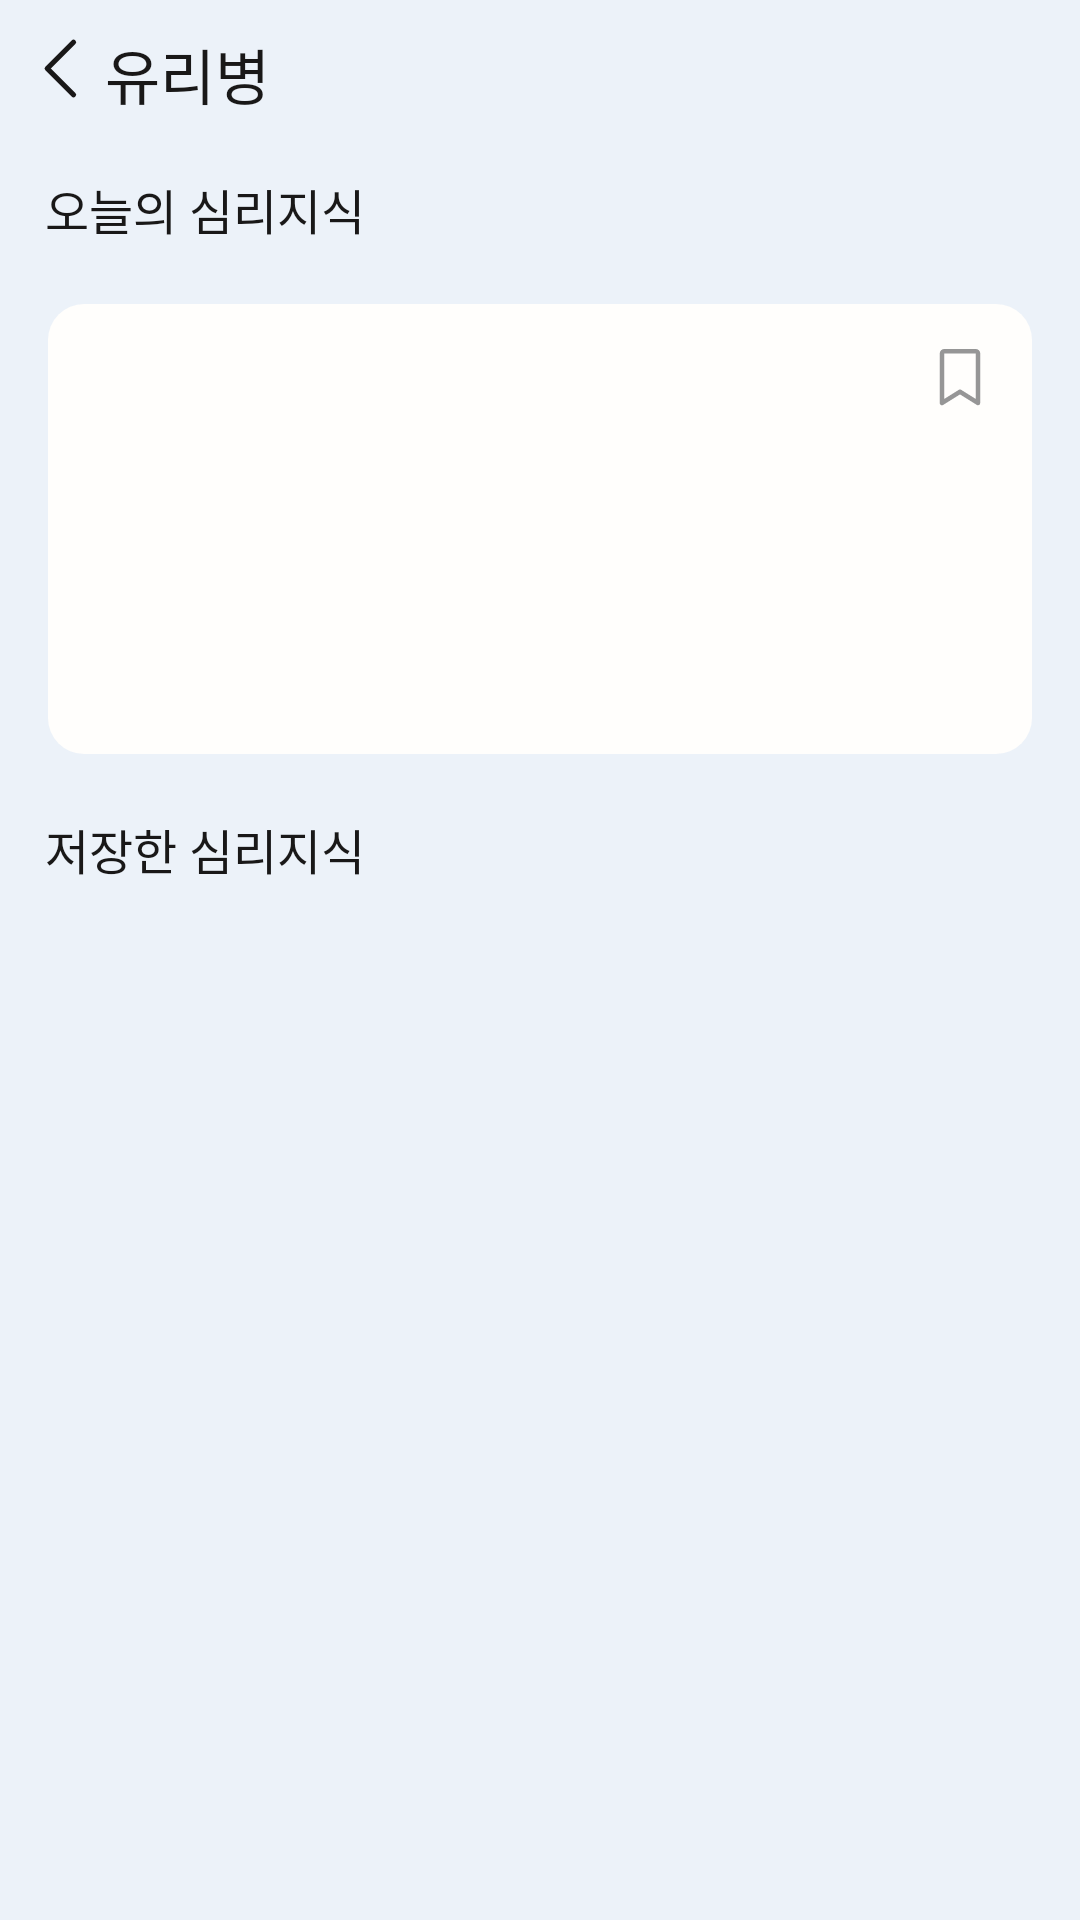

Icons on this 1080px x 1920px Android screen, each with the point to tap as (x,y):
bookmark unclicked: (960,377)
chevron left: (60,68)
